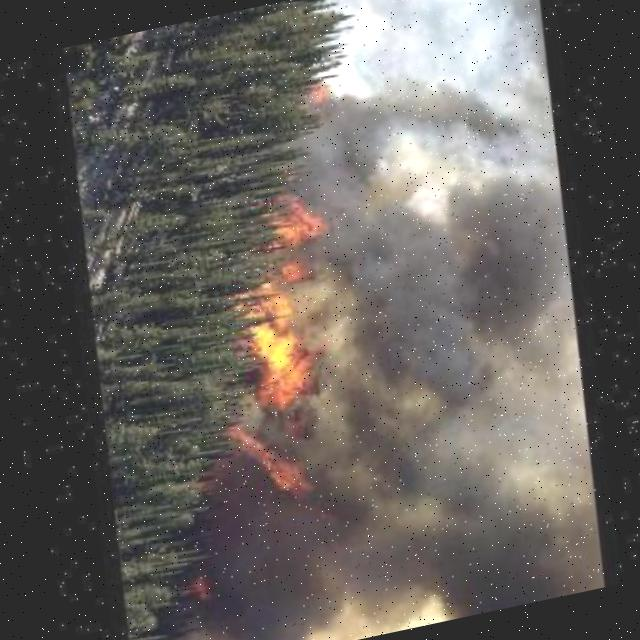fire: (177, 162, 402, 518), (286, 71, 345, 129)
